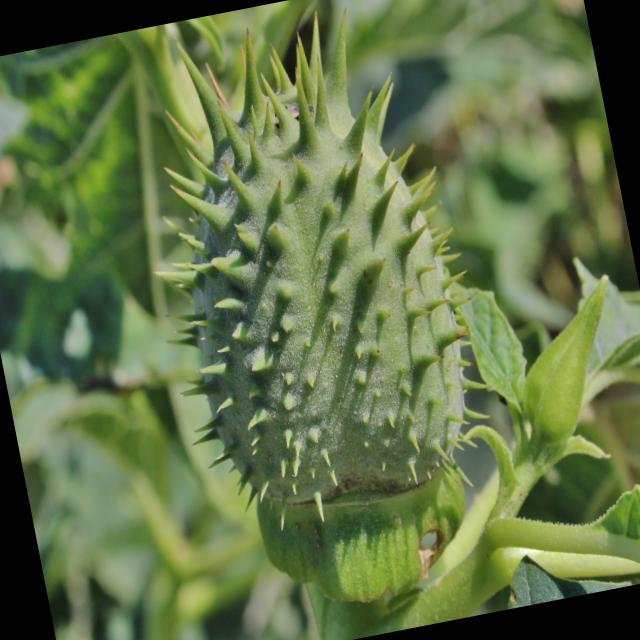Poisonous-Datura_Stramonium: (114, 0, 526, 594)
